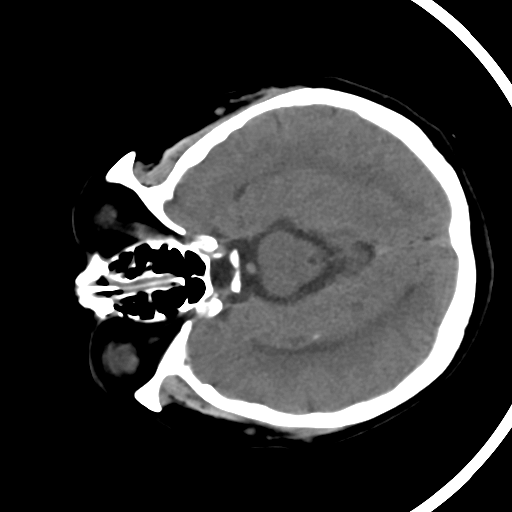a: (204, 298, 282, 353)
